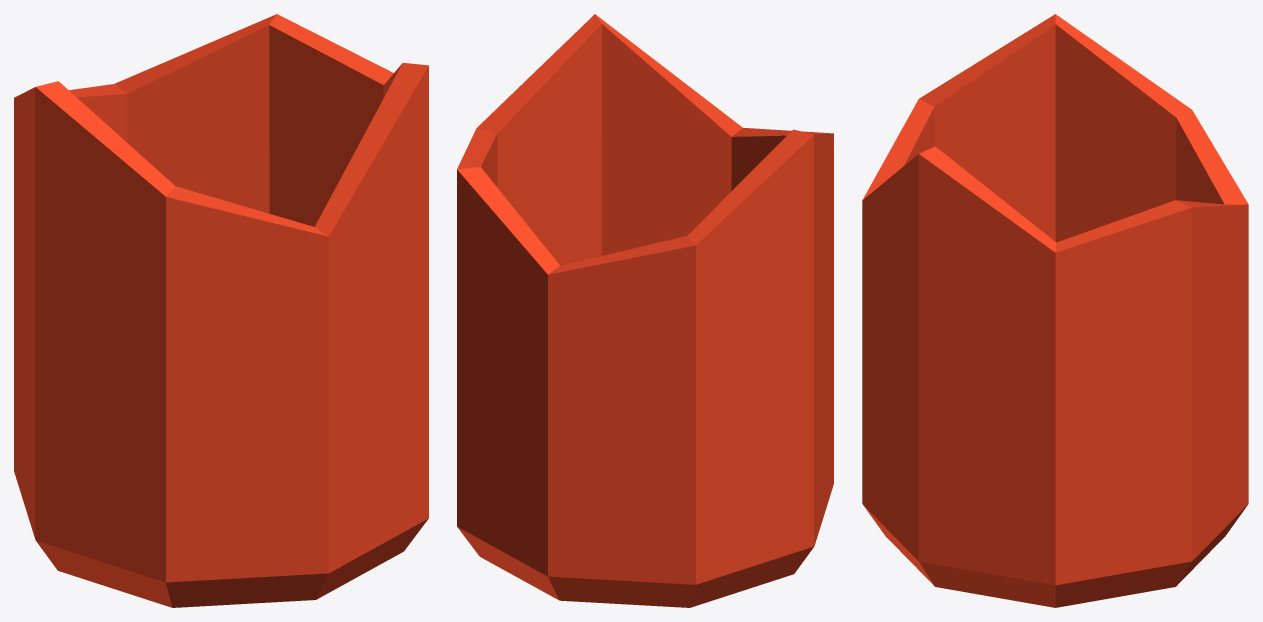
Rendered from SM_Alcohol_Broken_A_City.fbx.
3 views of the same model, side by side, from view 1: azimuth 30°, elevation 25°; view 2: azimuth 150°, elevation 25°; view 3: azimuth 270°, elevation 25° (orthographic). The views are drawn at different scales.
Parts seen in each view (by area): view 1: SM_Alcohol_Broken_A_City; view 2: SM_Alcohol_Broken_A_City; view 3: SM_Alcohol_Broken_A_City.
Boxes of the visible parts, <box> form: SM_Alcohol_Broken_A_City: <box>14,14,428,607</box>; SM_Alcohol_Broken_A_City: <box>457,14,833,607</box>; SM_Alcohol_Broken_A_City: <box>862,14,1248,607</box>.
Bounding box in the file's own units: 0.1013 × 0.1273 × 0.1013.
